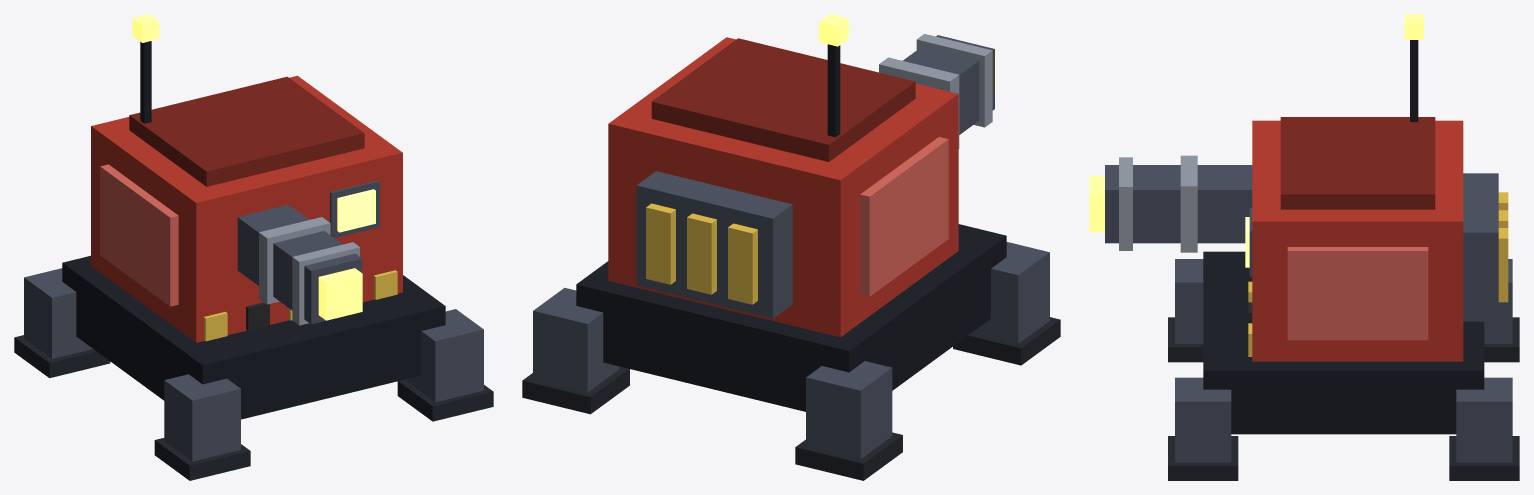
Rendered from enemy-artillery.glb.
3 renders of one model, left to right at view 1: azimuth 30°, elevation 25°; view 2: azimuth 150°, elevation 25°; view 3: azimuth 270°, elevation 25°, orthographic. The views are drawn at different scales.
Visible parts, largest first — view 1: body, base, body_top, body_side_r, barrel_main, leg_fr, leg_fl, leg_br, glow_muzzle, foot_fr, barrel_ring_a, foot_fl (+9 smaller); view 2: body, base, body_top, ammo_rack, body_side_r, leg_br, leg_bl, leg_fr, barrel_main, foot_br, foot_bl, ammo_0 (+7 smaller); view 3: body, base, body_top, body_side_l, barrel_main, ammo_rack, leg_bl, leg_fl, leg_fr, foot_bl, barrel_ring_a, foot_fl (+8 smaller).
Part boxes in pixels (x1,y1,x2,y2): body: [91, 75, 402, 342]; base: [62, 255, 445, 419]; body_top: [129, 76, 364, 186]; body_side_r: [100, 164, 178, 306]; barrel_main: [237, 205, 362, 324]; leg_fr: [164, 374, 240, 461]; leg_fl: [407, 309, 483, 402]; leg_br: [24, 268, 92, 358]; glow_muzzle: [318, 268, 362, 320]; foot_fr: [154, 438, 250, 480]; barrel_ring_a: [259, 217, 330, 304]; foot_fl: [397, 379, 493, 421]; body: [608, 37, 958, 337]; base: [576, 224, 1006, 411]; body_top: [651, 38, 915, 161]; ammo_rack: [636, 171, 792, 318]; body_side_r: [860, 137, 948, 296]; leg_br: [806, 361, 892, 459]; leg_bl: [533, 287, 619, 392]; leg_fr: [972, 242, 1049, 343]; barrel_main: [885, 35, 994, 134]; foot_br: [795, 432, 902, 480]; foot_bl: [522, 366, 629, 414]; ammo_0: [728, 223, 757, 304]; body: [1252, 120, 1463, 361]; base: [1203, 251, 1484, 434]; body_top: [1280, 117, 1435, 209]; body_side_l: [1287, 247, 1428, 340]; barrel_main: [1105, 165, 1252, 243]; ammo_rack: [1463, 173, 1498, 321]; leg_bl: [1456, 377, 1512, 462]; leg_fl: [1175, 377, 1231, 462]; leg_fr: [1175, 259, 1203, 343]; foot_bl: [1449, 436, 1519, 480]; barrel_ring_a: [1180, 155, 1197, 252]; foot_fl: [1168, 436, 1238, 480].
Bounding box in the file's own units: 2.5 × 2.77 × 3.06.
